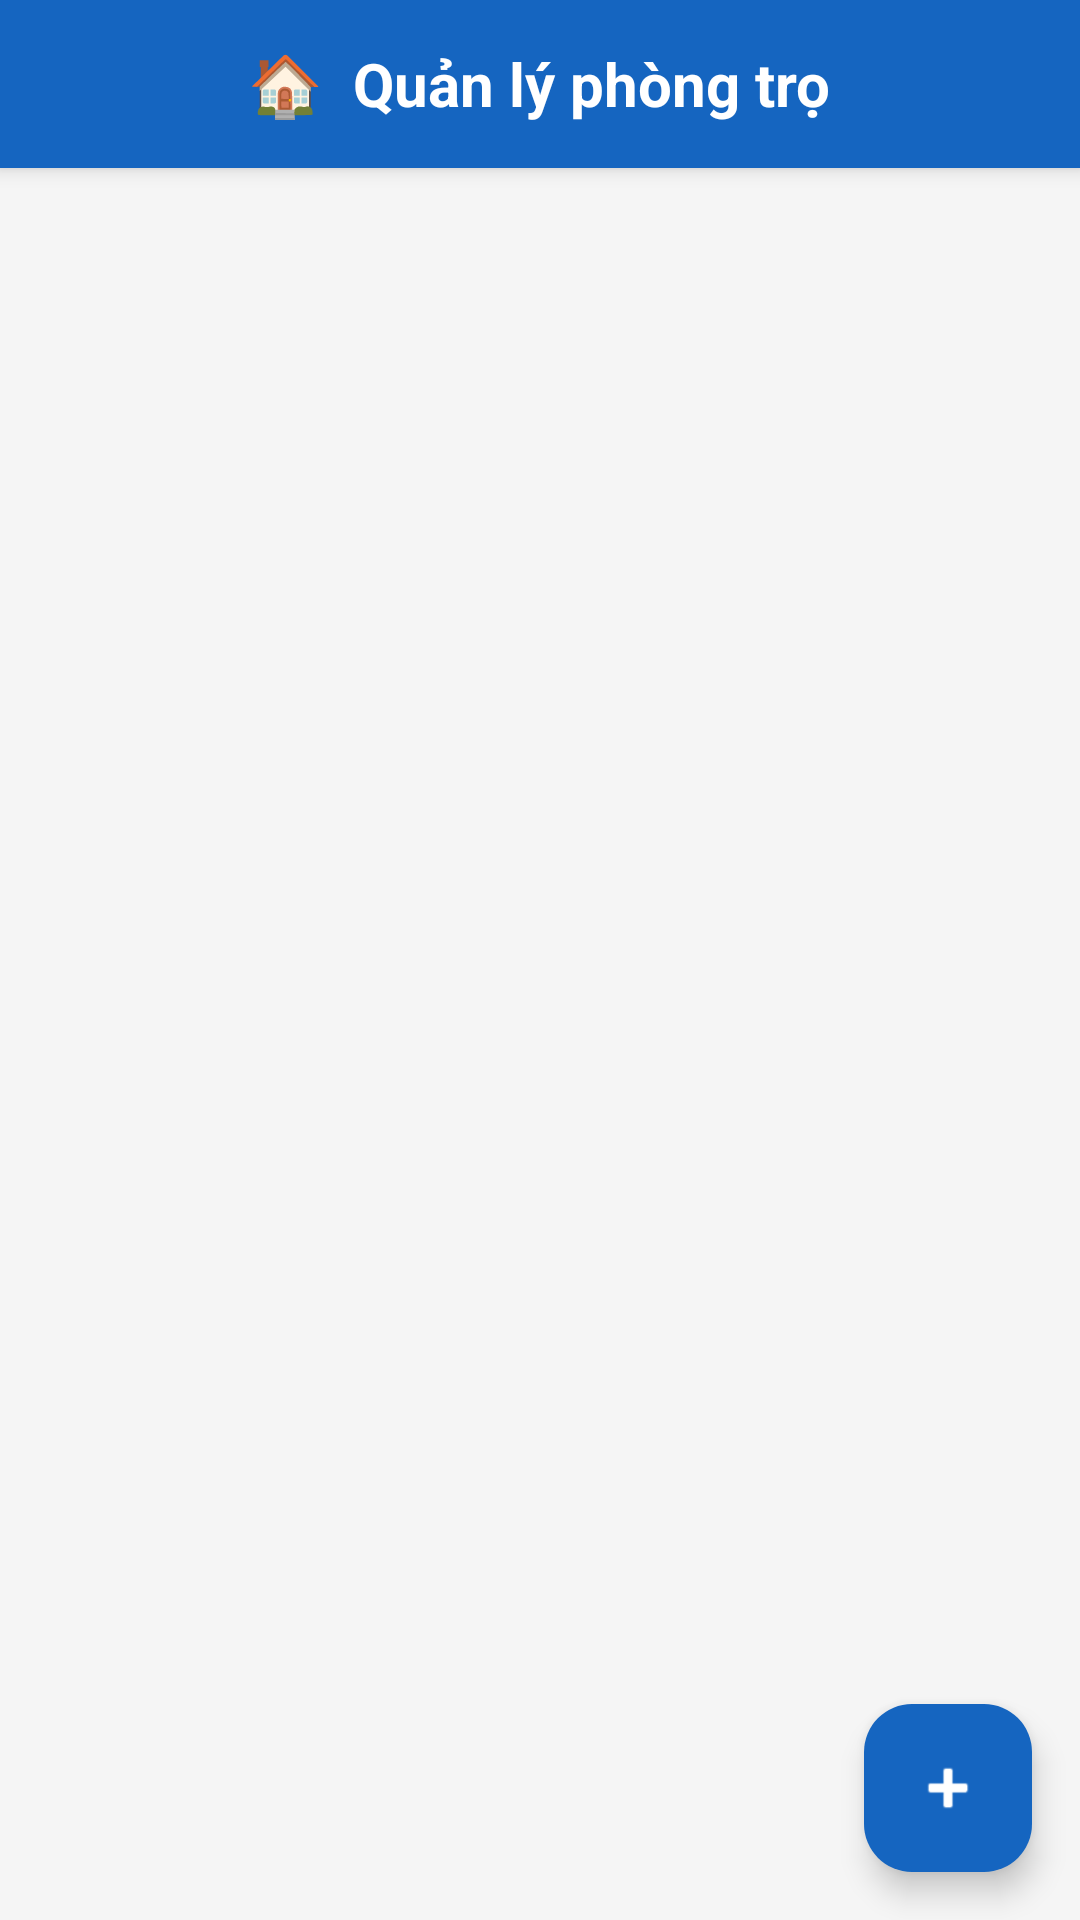

Screen size 1080x1920. Icon name, then its box in pixels as (x1, y1, x2, y2):
Thêm phòng: (864, 1704, 1032, 1872)
